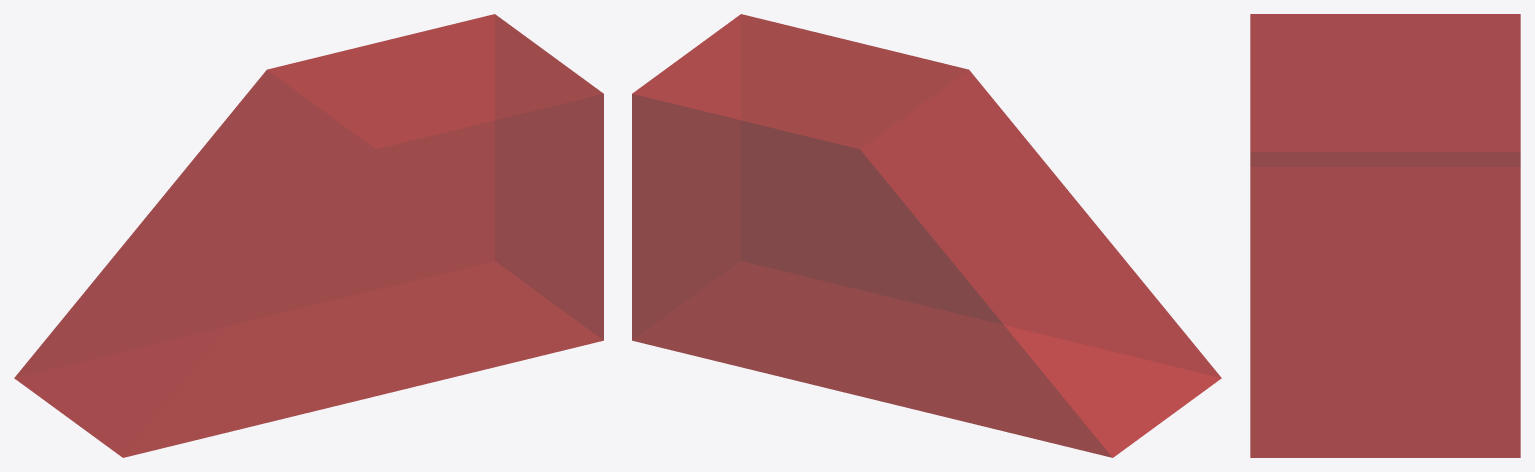
File: SM_Bld_Stairs_Straight_02_Collision.fbx
The picture shows the model from 3 angles, left to right: view 1: azimuth 30°, elevation 25°; view 2: azimuth 150°, elevation 25°; view 3: azimuth 270°, elevation 25°; orthographic projection. The views are drawn at different scales.
Parts seen in each view (by area): view 1: SM_Bld_Stairs_Straight_02_Collision; view 2: SM_Bld_Stairs_Straight_02_Collision; view 3: SM_Bld_Stairs_Straight_02_Collision.
Part boxes in pixels (<box>): SM_Bld_Stairs_Straight_02_Collision: <box>14,14,603,457</box>; SM_Bld_Stairs_Straight_02_Collision: <box>632,14,1221,457</box>; SM_Bld_Stairs_Straight_02_Collision: <box>1250,14,1520,457</box>.
Size of the model in its own units: 510 by 250 by 200.
